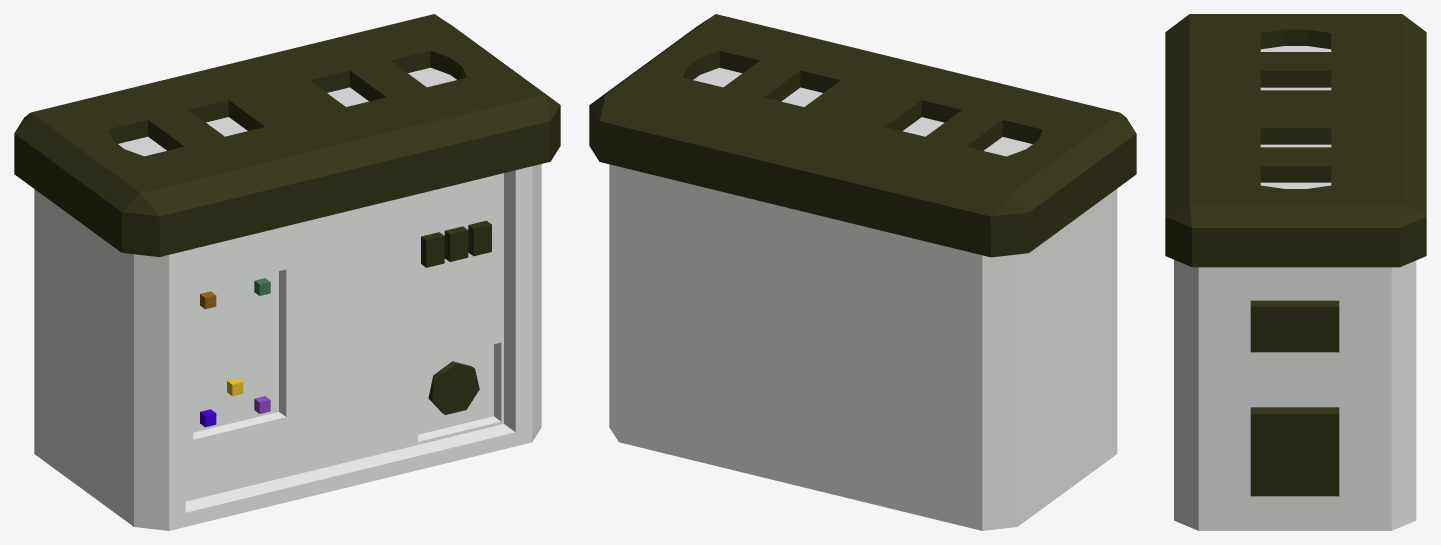
The model's file is MaquinaEntrada.fbx.
3 views of the same model, side by side, from view 1: azimuth 30°, elevation 25°; view 2: azimuth 150°, elevation 25°; view 3: azimuth 270°, elevation 25° (orthographic). The views are drawn at different scales.
Visible parts, largest first — view 1: Cube; view 2: Cube; view 3: Cube.
Part boxes in pixels (x1,y1,x2,y2): Cube: (14, 14, 560, 530); Cube: (589, 14, 1136, 530); Cube: (1165, 14, 1426, 530).
Size of the model in its own units: 150 by 110 by 80.
